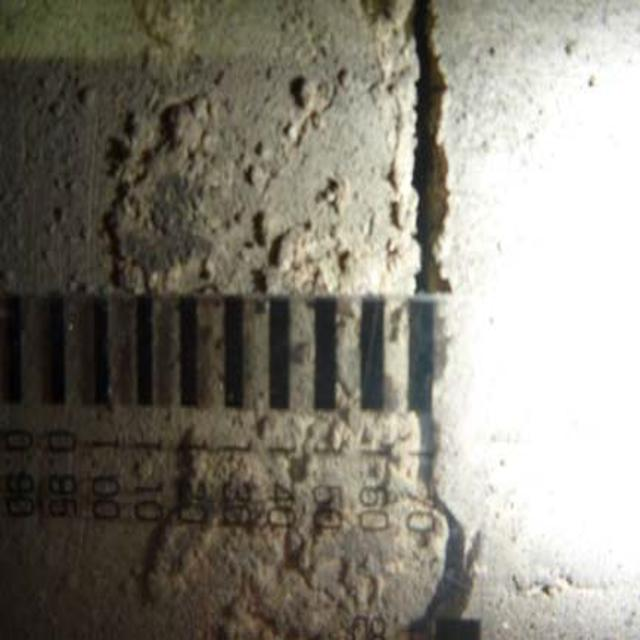crack: (402, 7, 492, 639)
